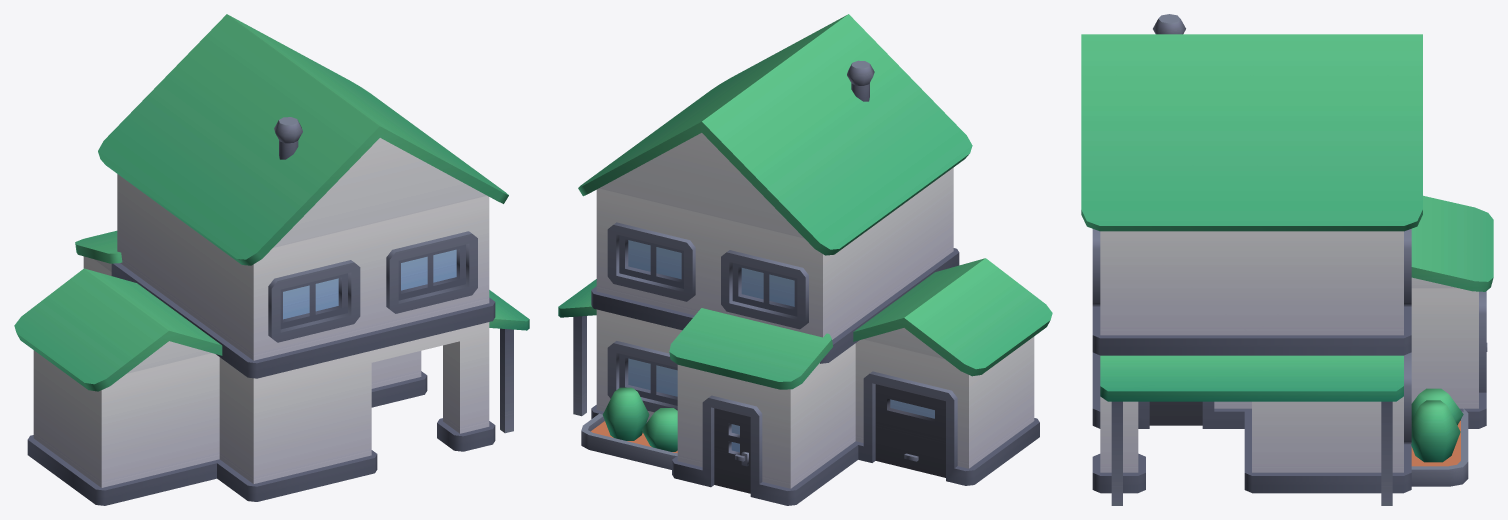
The model's file is house-s.glb.
3 views of the same model, side by side, from view 1: azimuth 30°, elevation 25°; view 2: azimuth 150°, elevation 25°; view 3: azimuth 270°, elevation 25° (orthographic). The views are drawn at different scales.
Visible parts, largest first — view 1: building-type-s; view 2: building-type-s; view 3: building-type-s.
Boxes of the visible parts, bbox=[...] form: building-type-s: bbox=[14, 14, 529, 505]; building-type-s: bbox=[558, 14, 1052, 505]; building-type-s: bbox=[1081, 14, 1493, 505].
Size of the model in its own units: 1.41 by 1.14 by 1.09.
Materials: 1 (1 with a texture image).
